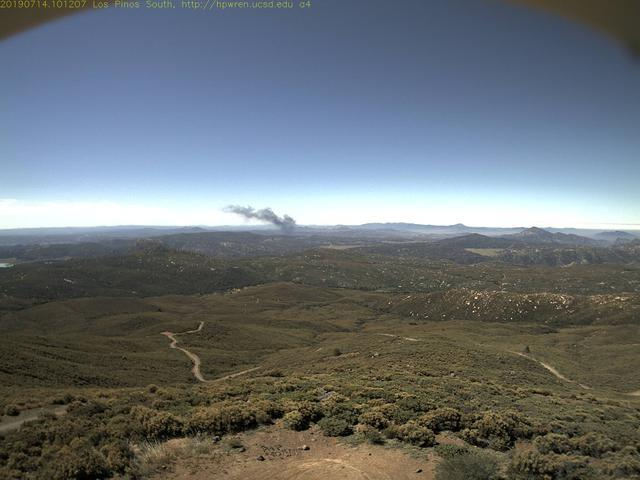smoke: (216, 200, 302, 240)
